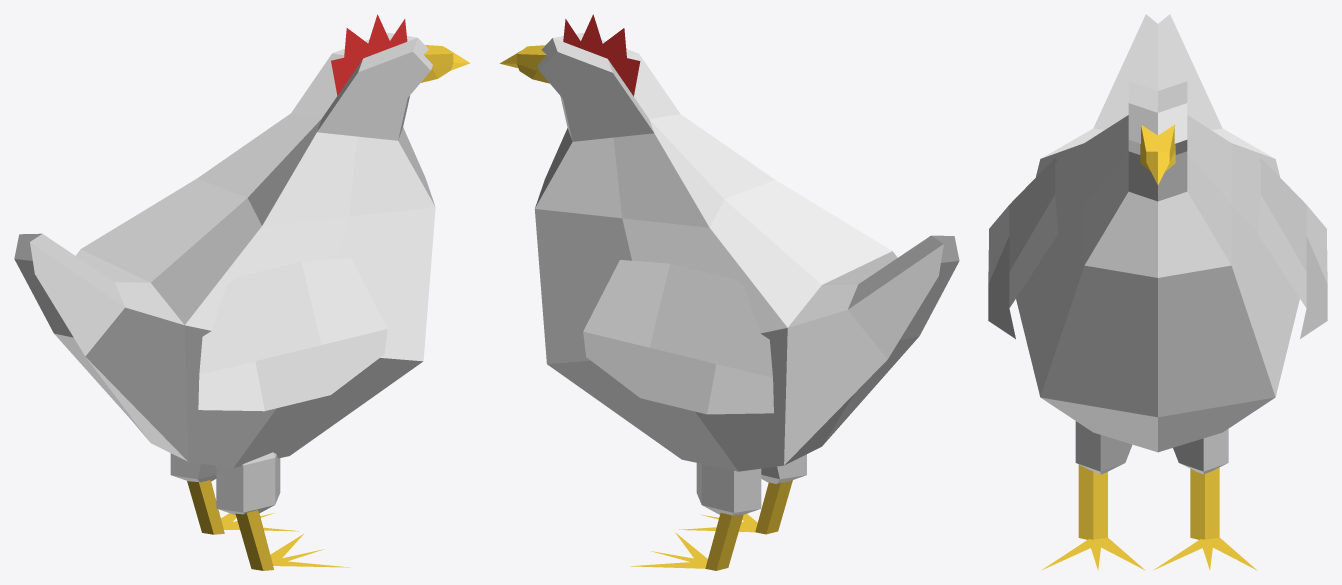
File: chicken.gltf
3 renders of one model, left to right at view 1: azimuth 30°, elevation 25°; view 2: azimuth 150°, elevation 25°; view 3: azimuth 270°, elevation 25°, orthographic. The views are drawn at different scales.
Parts seen in each view (by area): view 1: mesh (×2), plane (×3), cylinder (×4); view 2: mesh (×2), plane (×3), cylinder (×4); view 3: mesh (×2), plane (×4), cylinder (×4).
Part boxes in pixels (x1,y1,x2,y2): mesh (×2): [14, 32, 470, 467]; plane (×3): [198, 14, 407, 567]; cylinder (×4): [170, 452, 280, 570]; mesh (×2): [500, 32, 959, 471]; plane (×3): [563, 14, 773, 568]; cylinder (×4): [696, 454, 806, 570]; mesh (×2): [1016, 14, 1299, 452]; plane (×4): [988, 158, 1327, 570]; cylinder (×4): [1075, 421, 1228, 539].
Size of the model in its own units: 0.6188 by 0.66 by 0.3605.
Materials: 3 (3 with a texture image).
